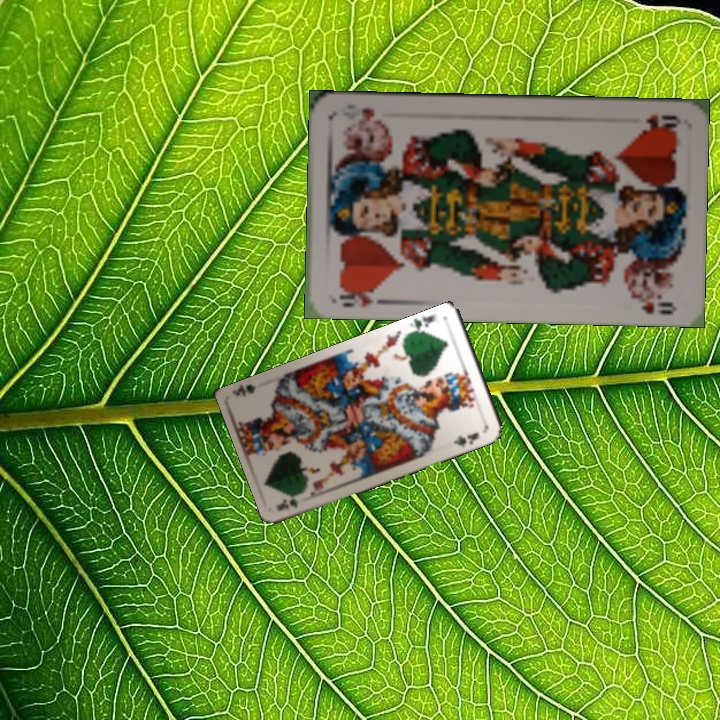GK: (405, 311, 438, 335), (272, 494, 302, 513)
HO: (335, 284, 381, 310), (637, 110, 683, 132)
